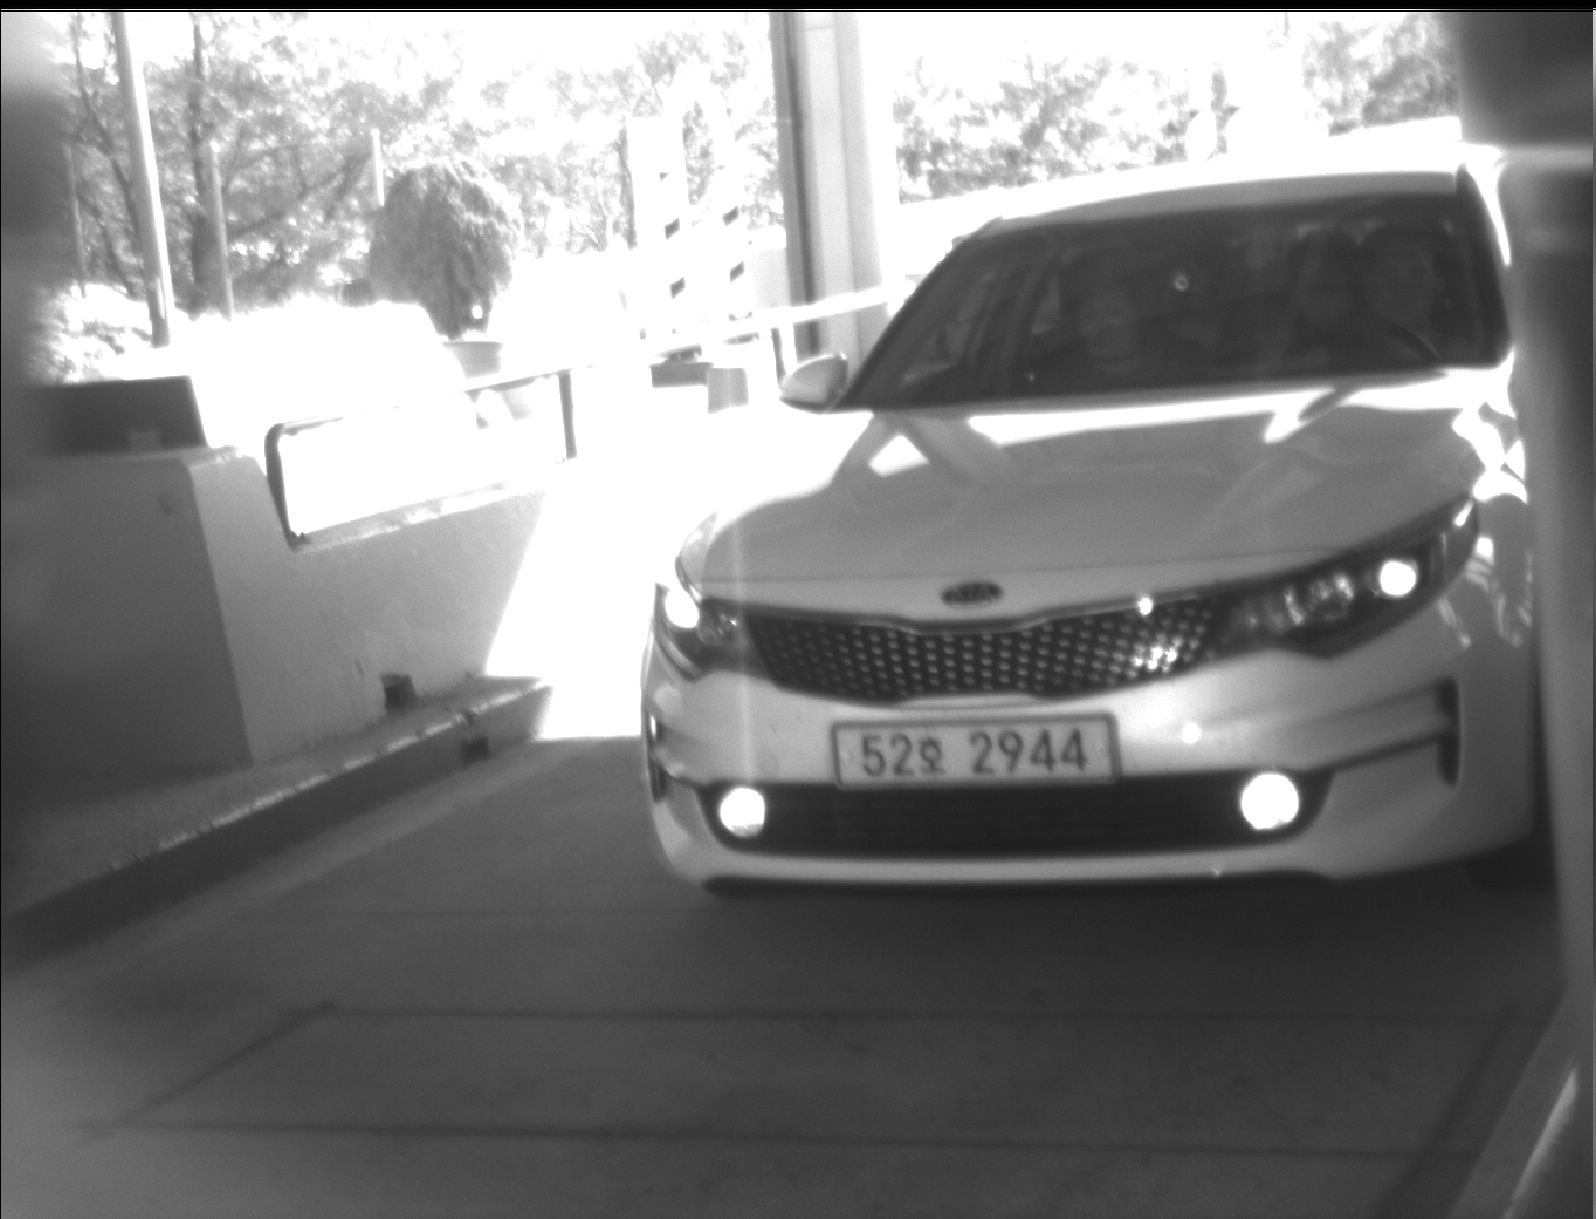car: (632, 150, 1573, 908)
plate: (828, 712, 1125, 790)
